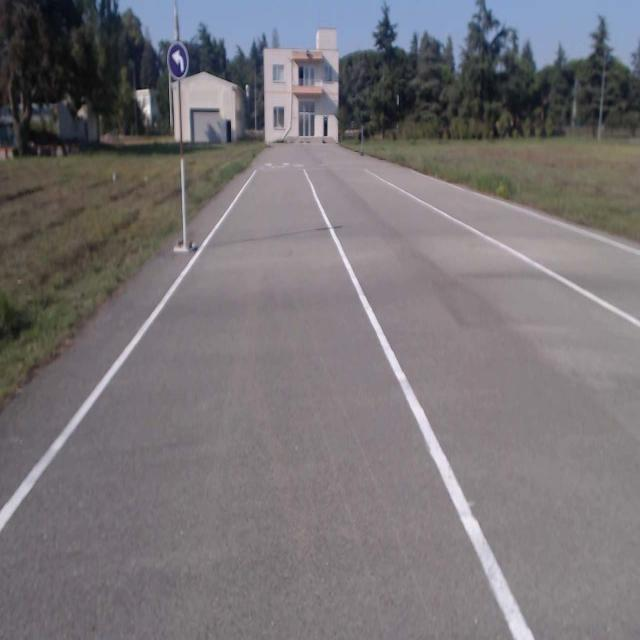sol: (167, 41, 189, 79)
